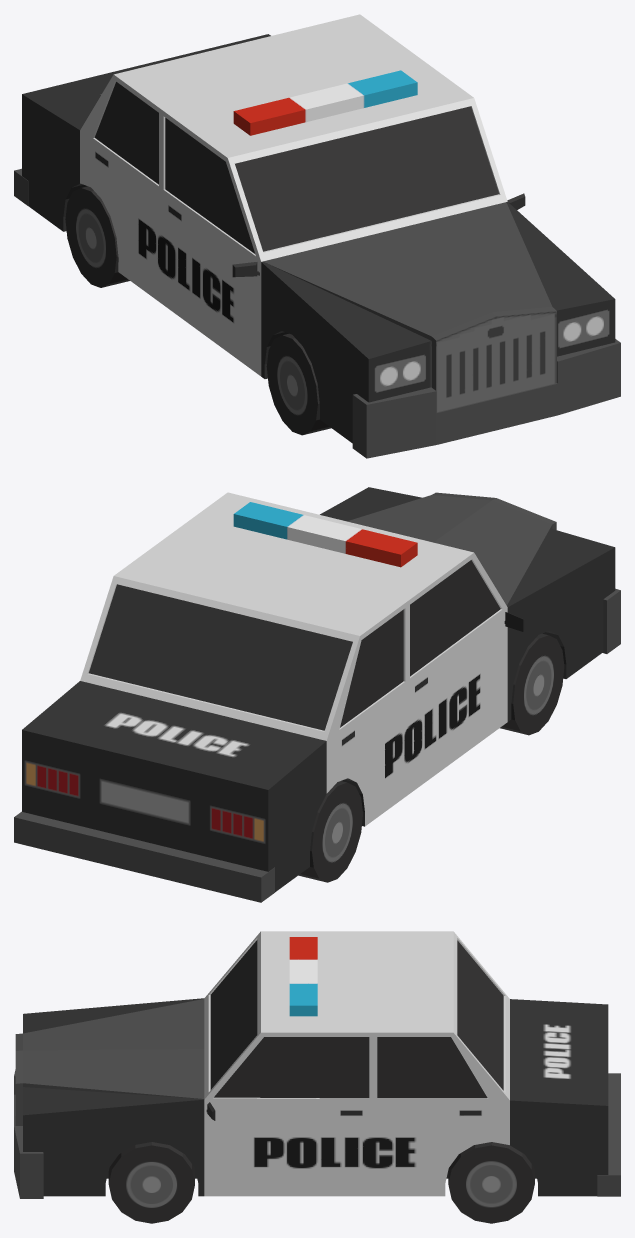
Rendered from vehicle-police-car.glb.
3 views of the same model, one above another, from view 1: azimuth 30°, elevation 25°; view 2: azimuth 150°, elevation 25°; view 3: azimuth 270°, elevation 25° (orthographic). The views are drawn at different scales.
Visible parts, largest first — view 1: model; view 2: model; view 3: model.
Boxes of the visible parts, x1,y1,x2,y2 form: model: [14, 14, 620, 458]; model: [14, 487, 620, 902]; model: [14, 931, 620, 1223].
Bounding box in the file's own units: 2.96 × 2.32 × 6.32.
1 material, 1 textured.
